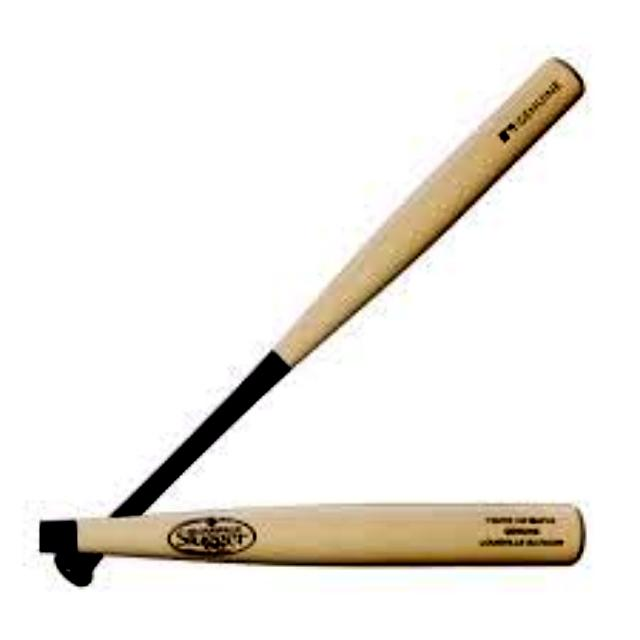baseball bat: (57, 53, 590, 591), (37, 500, 585, 586)
